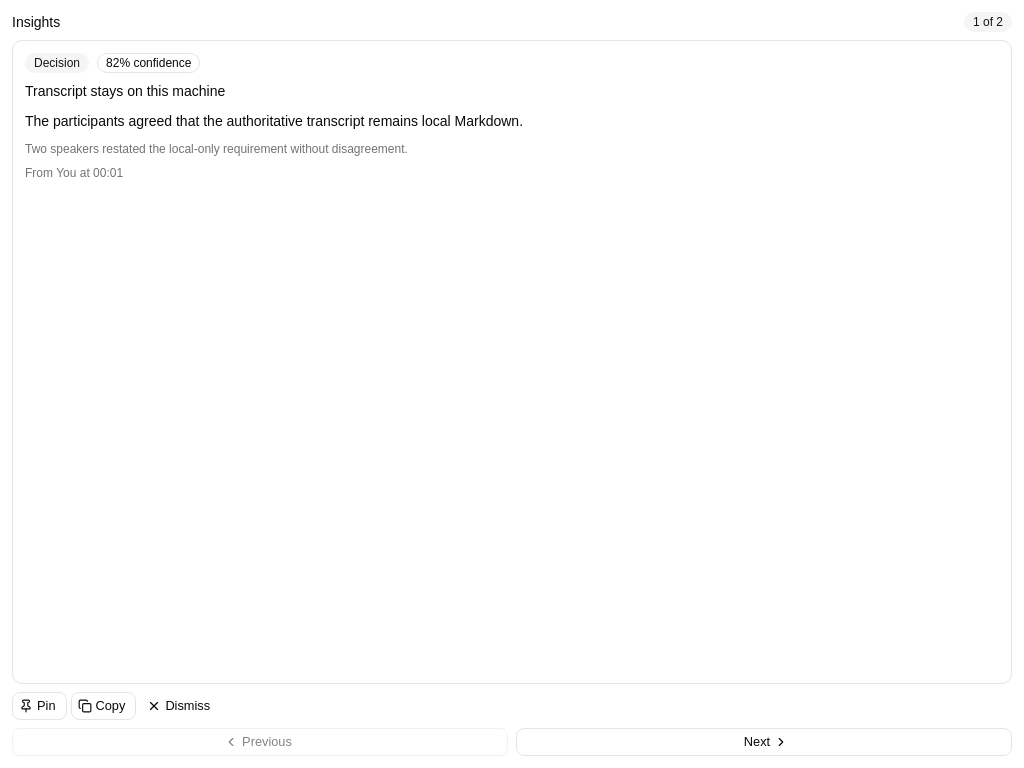
Test: DetachedInsightsWindow › renders one insight at a time and navigates between them
Expected: the heading "Transcript stays on this machine" is shown, [25,83,225,99]
Expected: the text "Confirm the retention window" is not shown
What coordinates should you click on to do the following:
click the button "Next"
I would click on:
 (764, 742)
Its box is [516,728,1012,756].
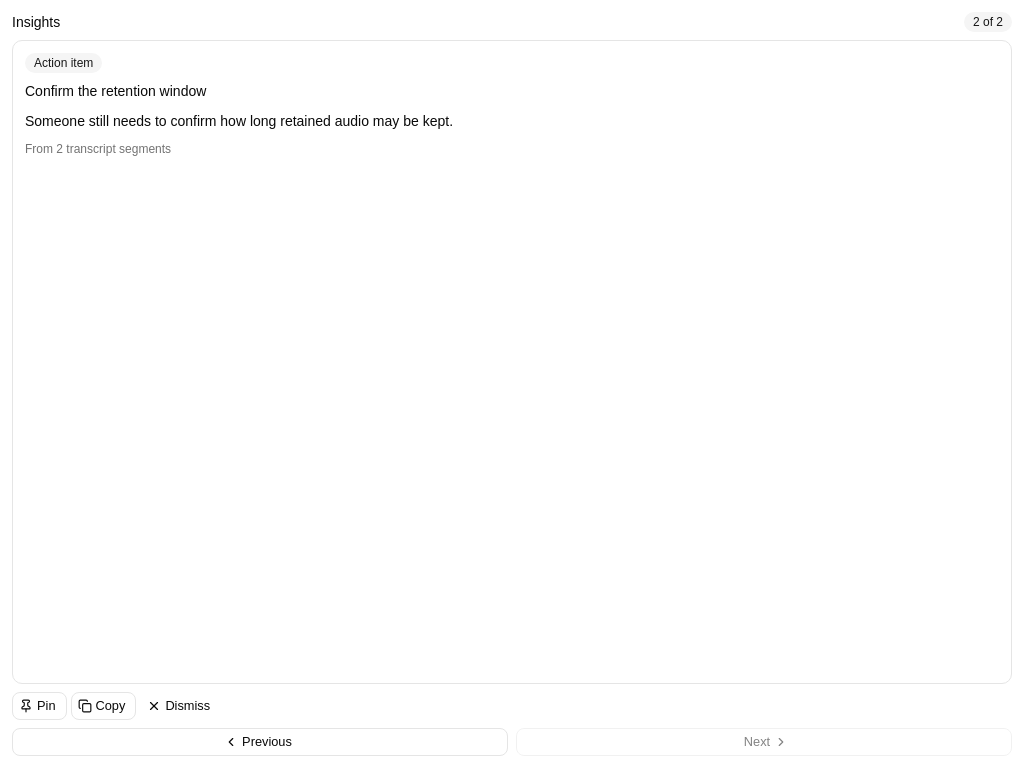
Expected: the heading "Confirm the retention window" is shown, [25,83,206,99]
Expected: the heading "Transcript stays on this machine" is gone
